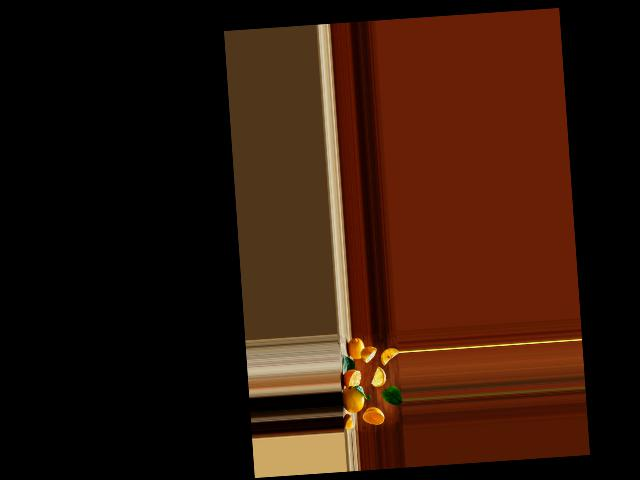lemon: (346, 334, 367, 360)
